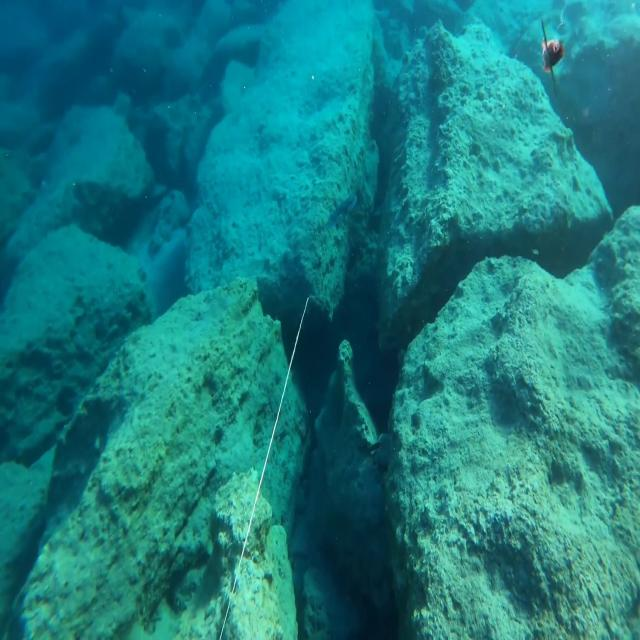Balon Baligi: (320, 194, 356, 233)
